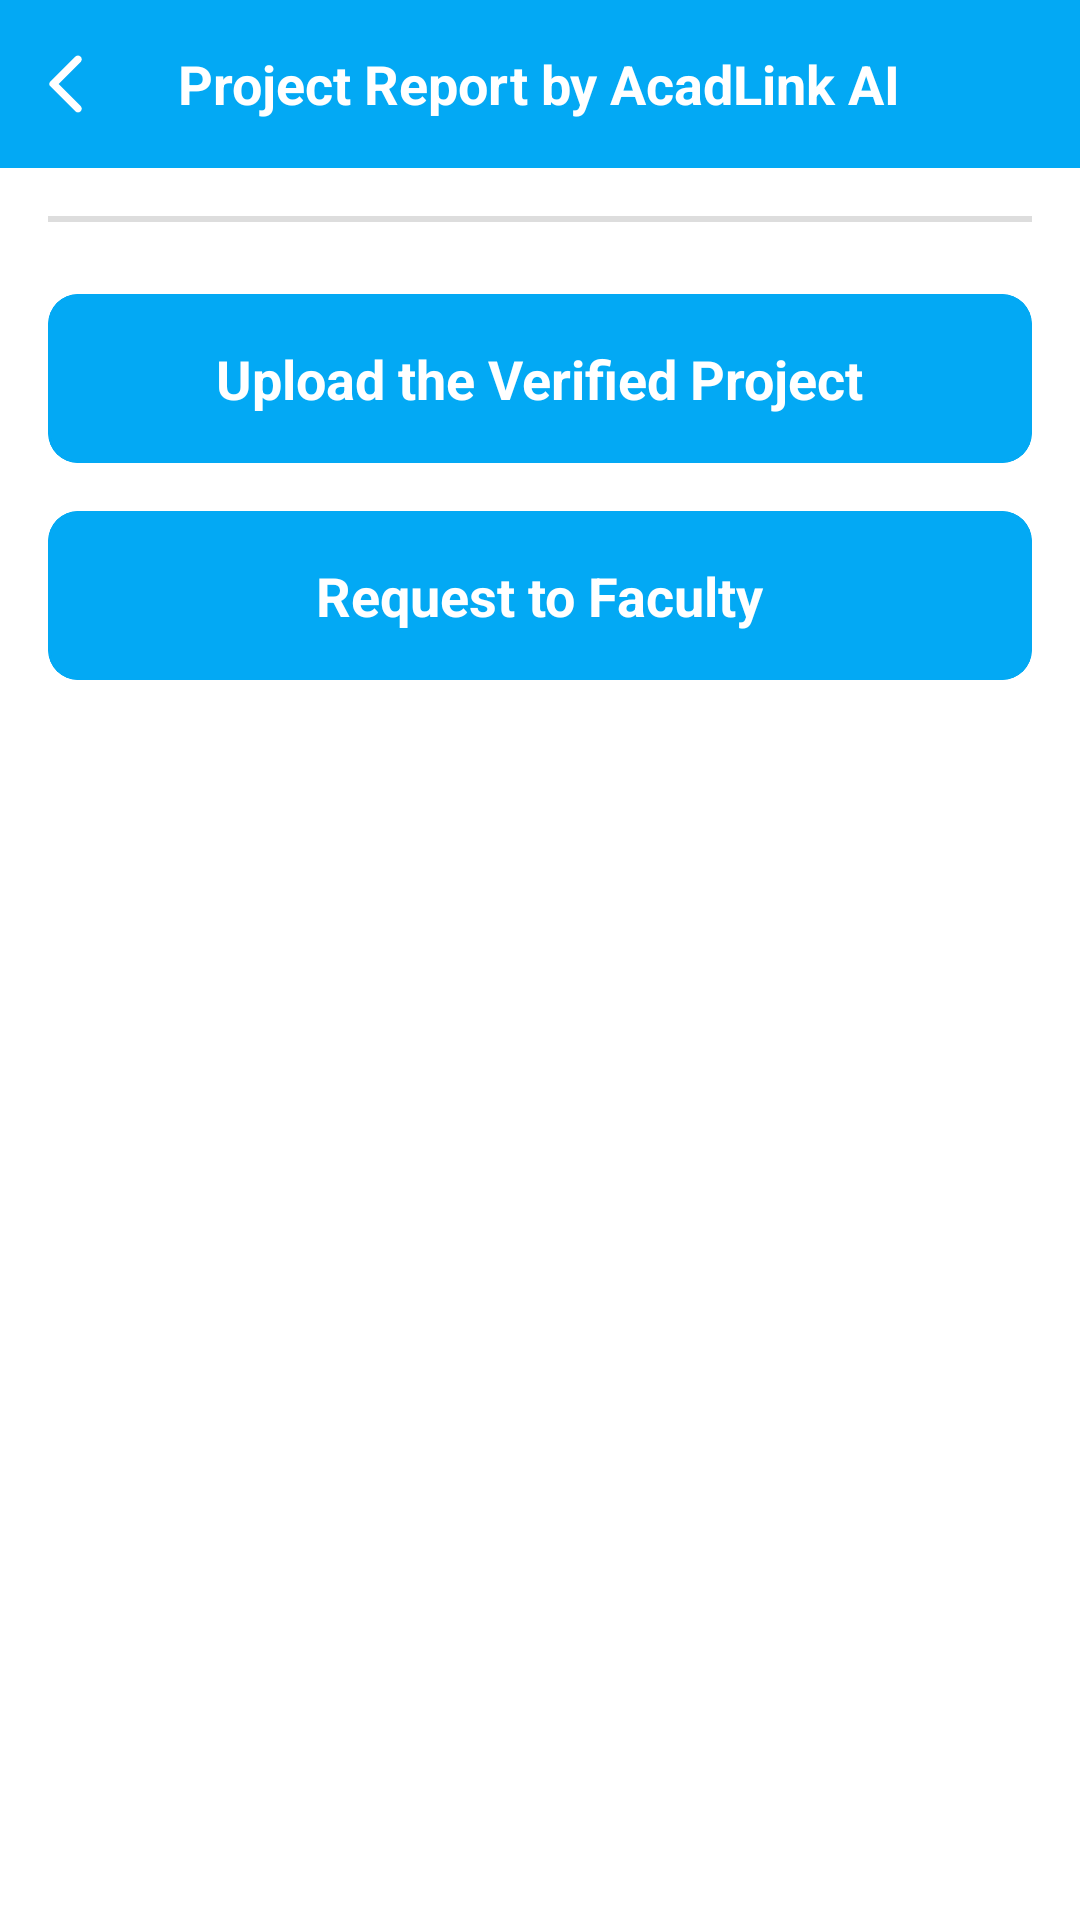

Locate icon controls on the screen. Image size 1080px x 1920px, boxes as (x1, y1, x2, y2).
back: (49, 55, 82, 113)
